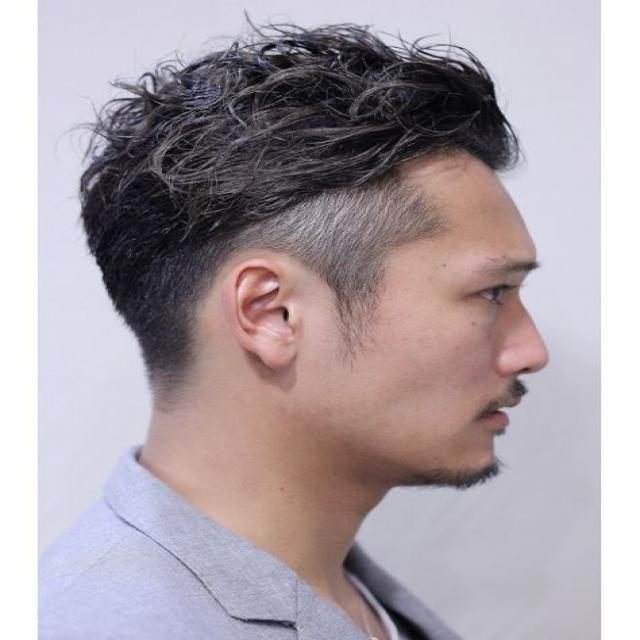Healthy: (145, 355, 404, 587)
